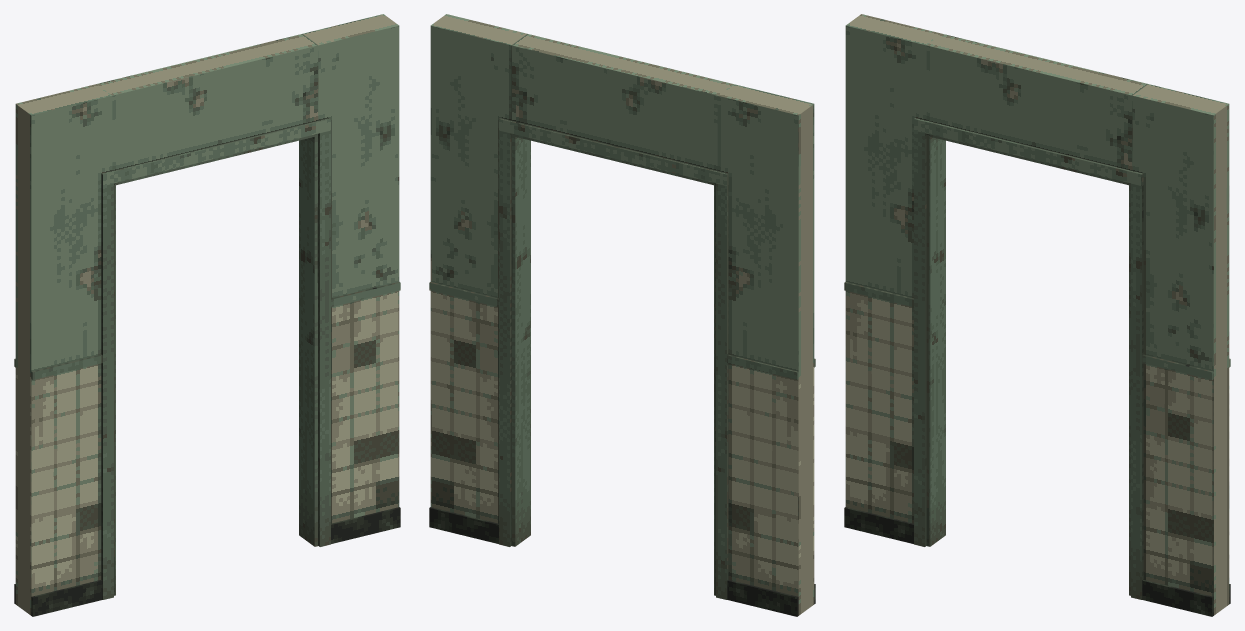
File: Wall_Door_2m_01.glb
3 views of the same model, side by side, from view 1: azimuth 30°, elevation 25°; view 2: azimuth 150°, elevation 25°; view 3: azimuth 330°, elevation 25° (orthographic).
Visible parts, largest first — view 1: Wall_Door_2m_01; view 2: Wall_Door_2m_01; view 3: Wall_Door_2m_01.
Part boxes in pixels (x1=…): Wall_Door_2m_01: x1=14, y1=14, x2=400, y2=616; Wall_Door_2m_01: x1=429, y1=14, x2=815, y2=616; Wall_Door_2m_01: x1=844, y1=14, x2=1230, y2=616.
Bounding box in the file's own units: 2 × 2.6 × 0.18.
1 material, 1 textured.
